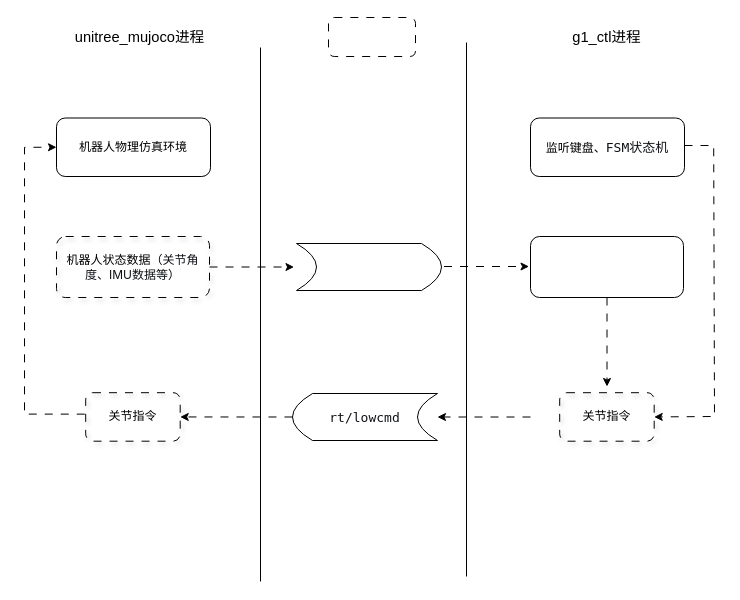
Some shapes in this 740 by 600 pixel diagram are drawn without their labels. The shapes that lost their labels are listed below. From the top down, each one's centre as x and y in pixels, then its label:
[372,36]: DDS通信
[369,266]: rt/lowstate
[607,267]: policy.onnx策略推理
